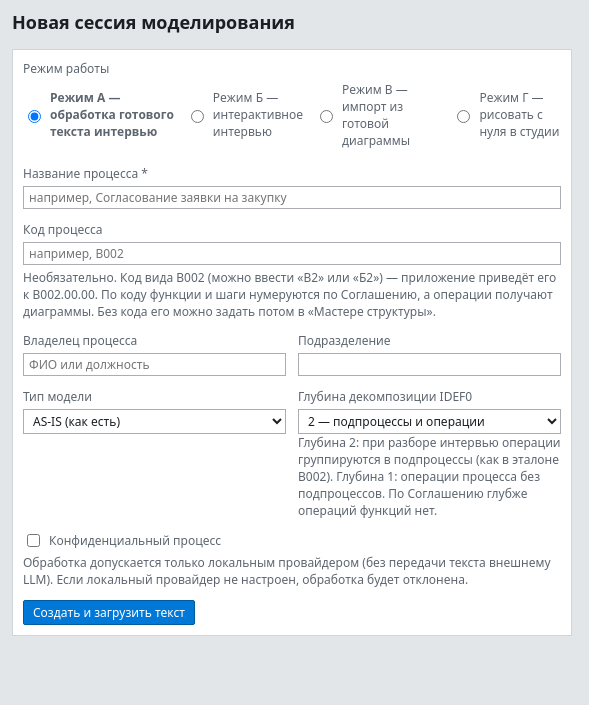
Test case: новая сессия › ошибка сервера показывается и кнопка снова доступна
The image size is (589, 705).
Click the radio button labelled "Режим Г — рисовать с нуля в студии" at (464, 116), box [457, 110, 470, 123]
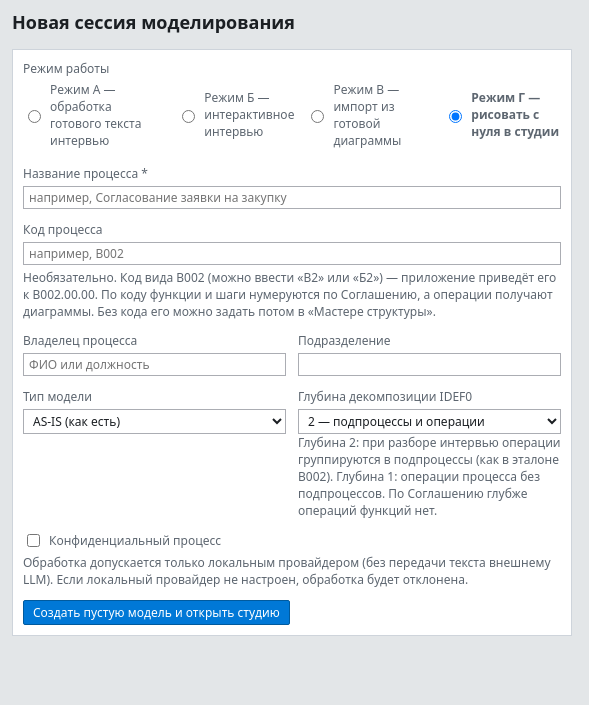
Type "Найм" into the field with placeholder "например, Согласование заявки на закупку" at (292, 197), box [23, 186, 561, 209]
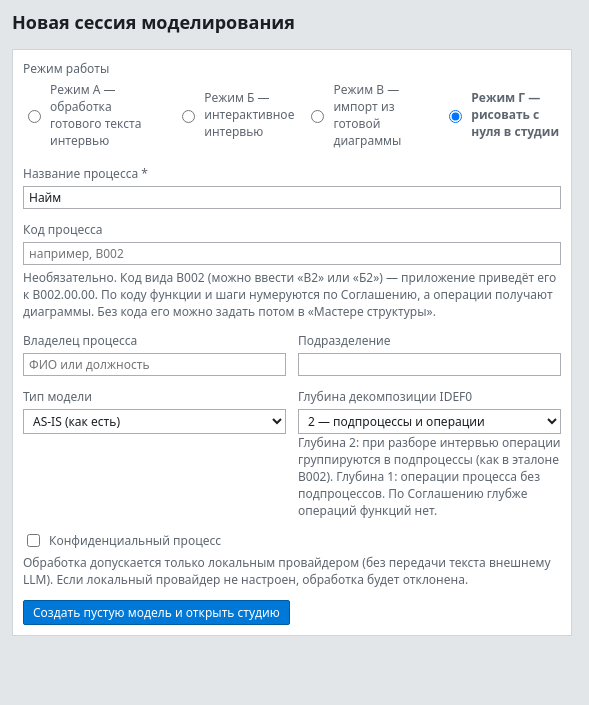
Click the button "Создать пустую модель и открыть студию" at (156, 612), box [23, 600, 290, 625]
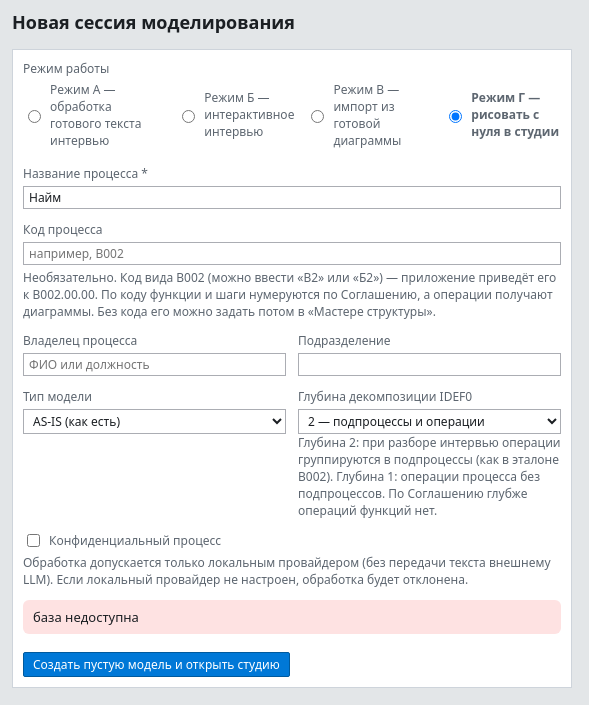
Expected: the button "Создать пустую модель и открыть студию" is enabled, [23, 652, 290, 677]
Result: the text "база недоступна" is shown at [23, 600, 561, 634]
